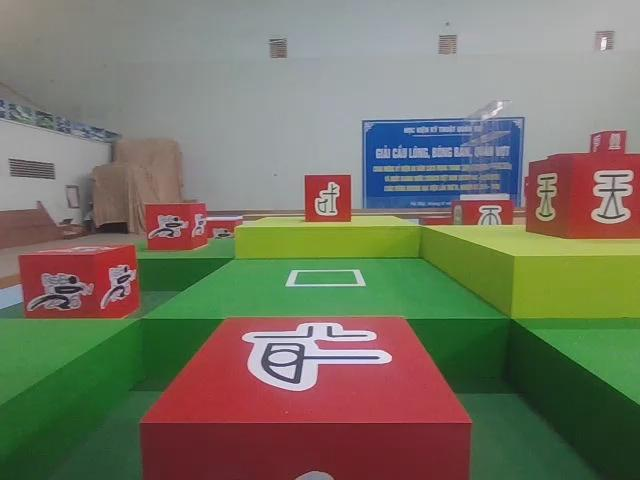R1: (13, 242, 141, 317), (146, 203, 207, 250)
R2 Real: (141, 313, 472, 480), (525, 153, 638, 243), (302, 176, 351, 222)
